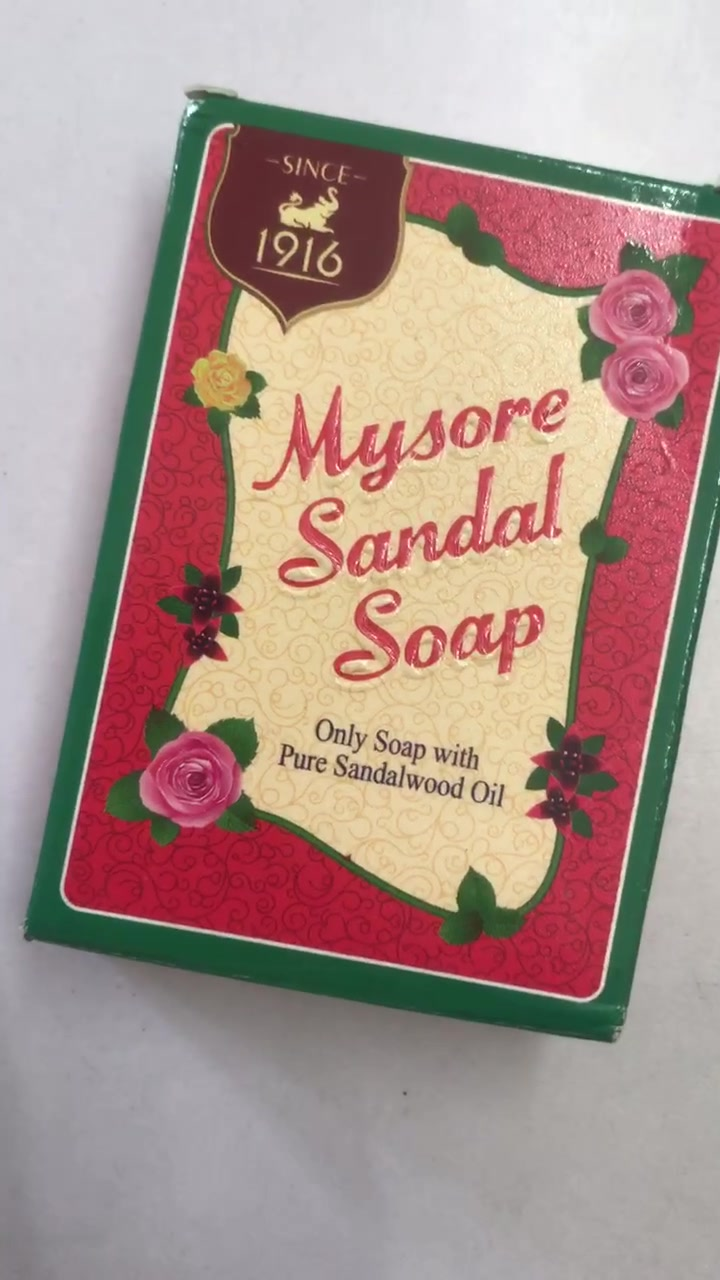mysore sandal soap: (95, 92, 689, 1010)
